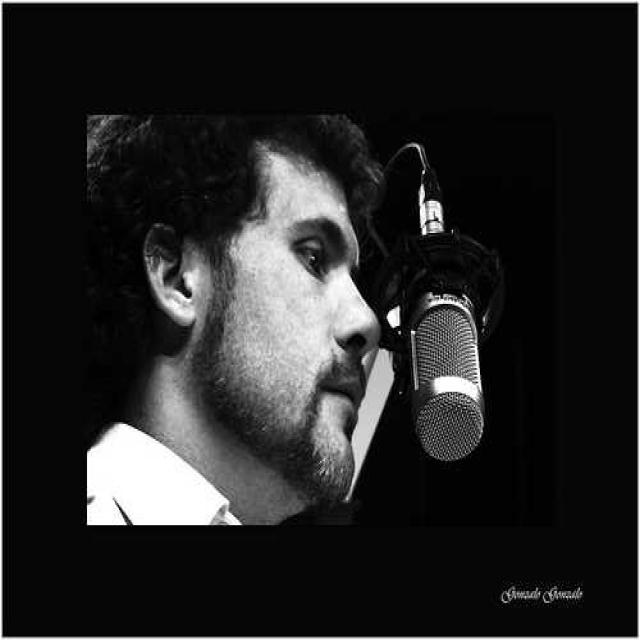microphone: (370, 143, 500, 471)
